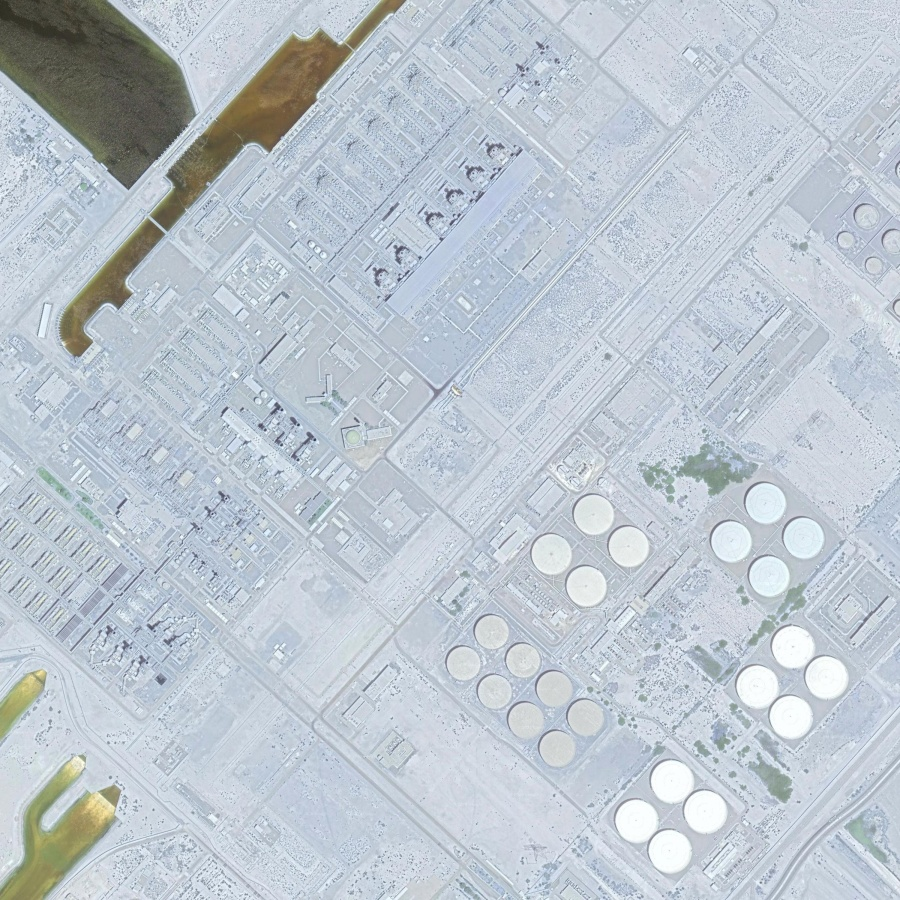PowerPlant: (436, 433, 886, 893)
